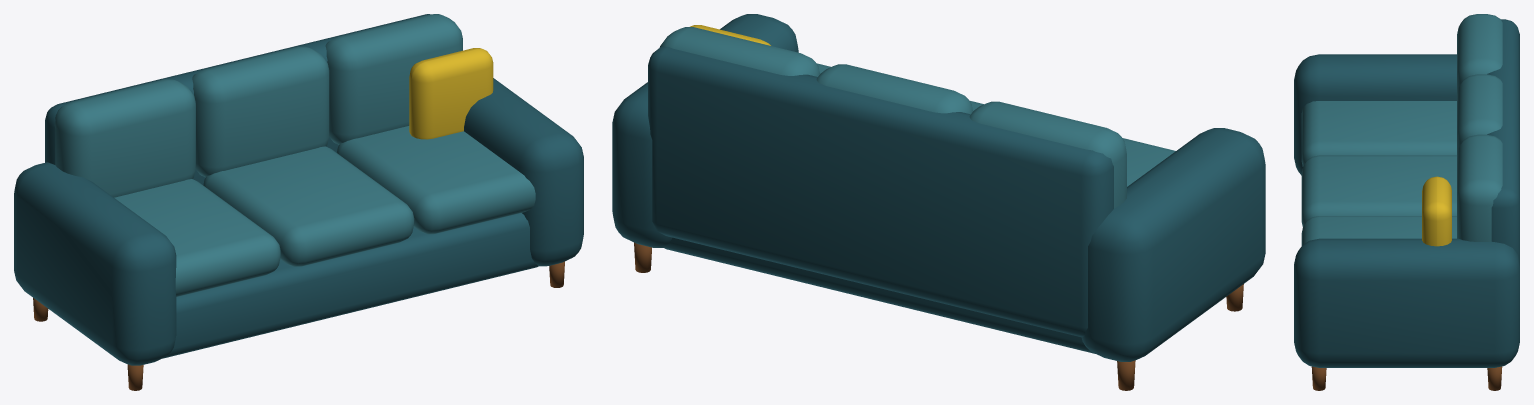
Rendered from sofa.glb.
3 views of the same model, side by side, from view 1: azimuth 30°, elevation 25°; view 2: azimuth 150°, elevation 25°; view 3: azimuth 270°, elevation 25° (orthographic). The views are drawn at different scales.
Parts seen in each view (by area): view 1: sofa; view 2: sofa; view 3: sofa.
Part boxes in pixels (<box>): sofa: <box>14,14,583,390</box>; sofa: <box>612,14,1265,390</box>; sofa: <box>1294,14,1519,390</box>.
Bounding box in the file's own units: 2 × 0.86 × 0.9.
